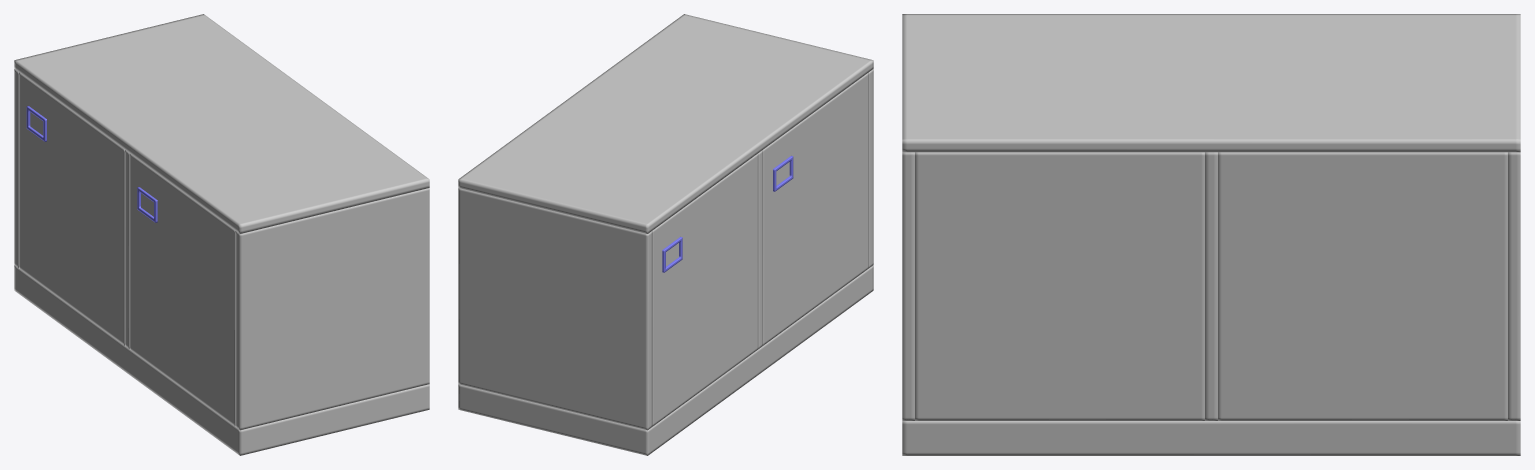
File: Cabinet_03.fbx
3 renders of one model, left to right at view 1: azimuth 30°, elevation 25°; view 2: azimuth 150°, elevation 25°; view 3: azimuth 270°, elevation 25°, orthographic. The views are drawn at different scales.
Parts seen in each view (by area): view 1: Cabinet_03_LOD00; view 2: Cabinet_03_LOD00; view 3: Cabinet_03_LOD00.
Boxes of the visible parts, x1=… form: Cabinet_03_LOD00: x1=14, y1=14, x2=429, y2=455; Cabinet_03_LOD00: x1=458, y1=14, x2=873, y2=455; Cabinet_03_LOD00: x1=902, y1=14, x2=1520, y2=455.
Size of what is drawn, in the model's own units: 73.44 by 84.38 by 150.
